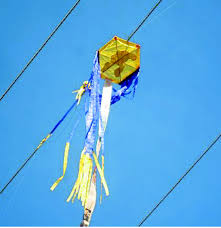kite: (67, 38, 145, 228)
